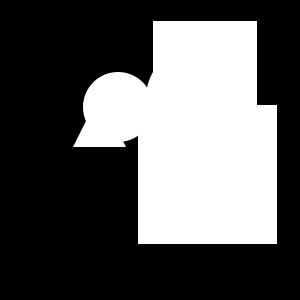circle: (138, 105, 277, 244), (153, 21, 257, 125)
rectangle: (146, 46, 250, 150), (83, 72, 153, 142)
triangle: (73, 94, 126, 147)
